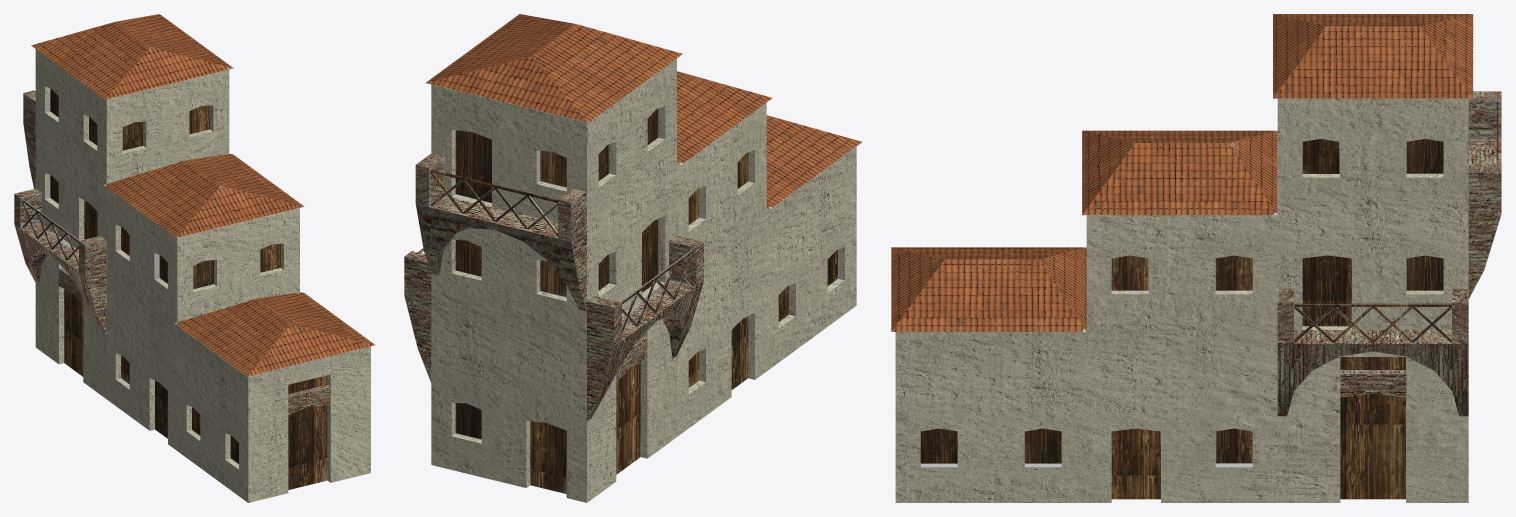
File: low_poly_roman_insula_3_wip.glb
3 views of the same model, side by side, from view 1: azimuth 30°, elevation 25°; view 2: azimuth 150°, elevation 25°; view 3: azimuth 270°, elevation 25° (orthographic). The views are drawn at different scales.
Visible parts, largest first — view 1: insula3_0; view 2: insula3_0; view 3: insula3_0.
Part boxes in pixels (<box>): insula3_0: <box>14,14,375,502</box>; insula3_0: <box>404,14,862,502</box>; insula3_0: <box>891,14,1501,502</box>.
Bounding box in the file's own units: 0.3875 × 0.725 × 0.9194.
Materials: 1 (1 with a texture image).
